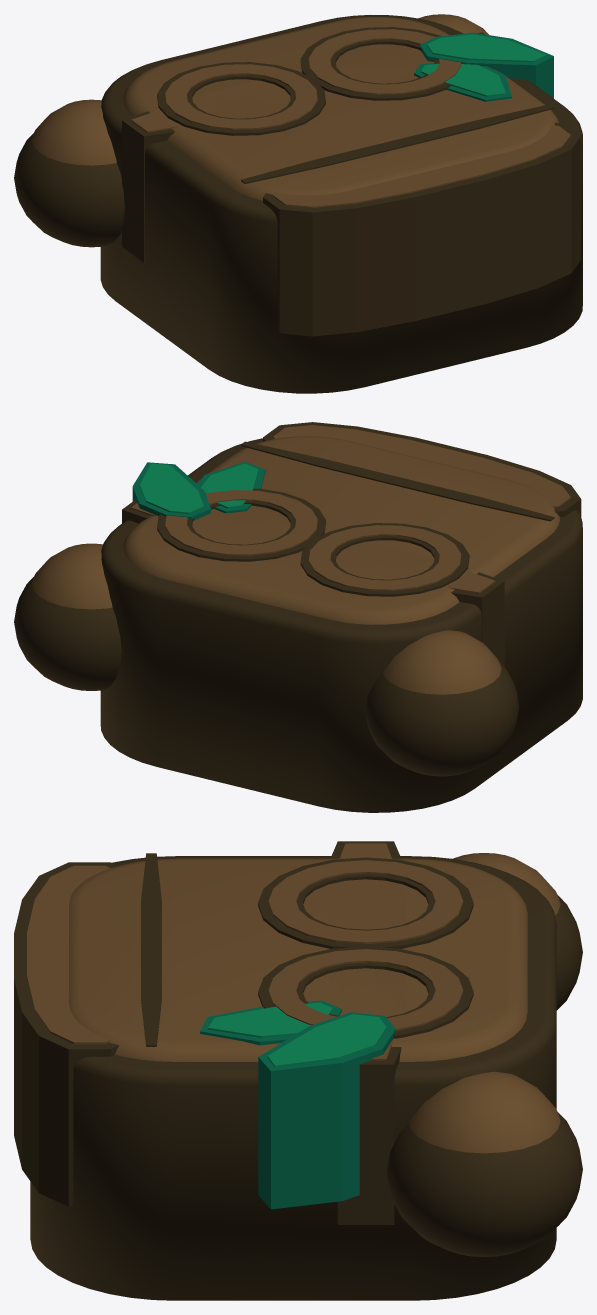
File: body_explorador.fbx
The picture shows the model from 3 angles, top to bottom: view 1: azimuth 30°, elevation 25°; view 2: azimuth 150°, elevation 25°; view 3: azimuth 270°, elevation 25°; orthographic projection. The views are drawn at different scales.
Visible parts, largest first — view 1: body_explorador_corpo, body_explorador_mao_esq, body_explorador_mao; view 2: body_explorador_corpo, body_explorador_mao_esq, body_explorador_mao; view 3: body_explorador_corpo, body_explorador_mao, body_explorador_mao_esq.
Boxes of the visible parts, x1,y1,x2,y2 form: body_explorador_corpo: (100,15,582,393); body_explorador_mao_esq: (14,99,124,247); body_explorador_mao: (418,14,488,34); body_explorador_corpo: (100,422,582,812); body_explorador_mao_esq: (365,630,519,776); body_explorador_mao: (14,543,121,690); body_explorador_corpo: (14,841,556,1300); body_explorador_mao: (386,1071,582,1257); body_explorador_mao_esq: (453,853,582,1010).
Bounding box in the file's own units: 5.4 × 2.07 × 4.32.
1 material, 1 textured.
